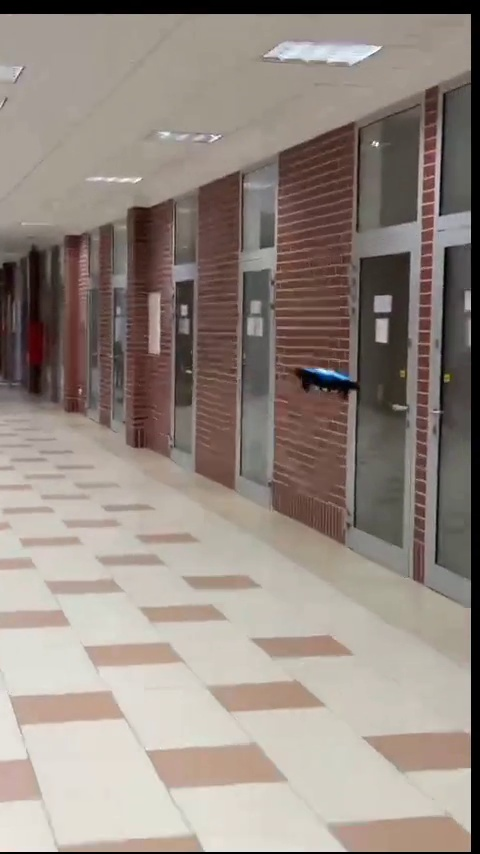drone: (289, 363, 363, 405)
